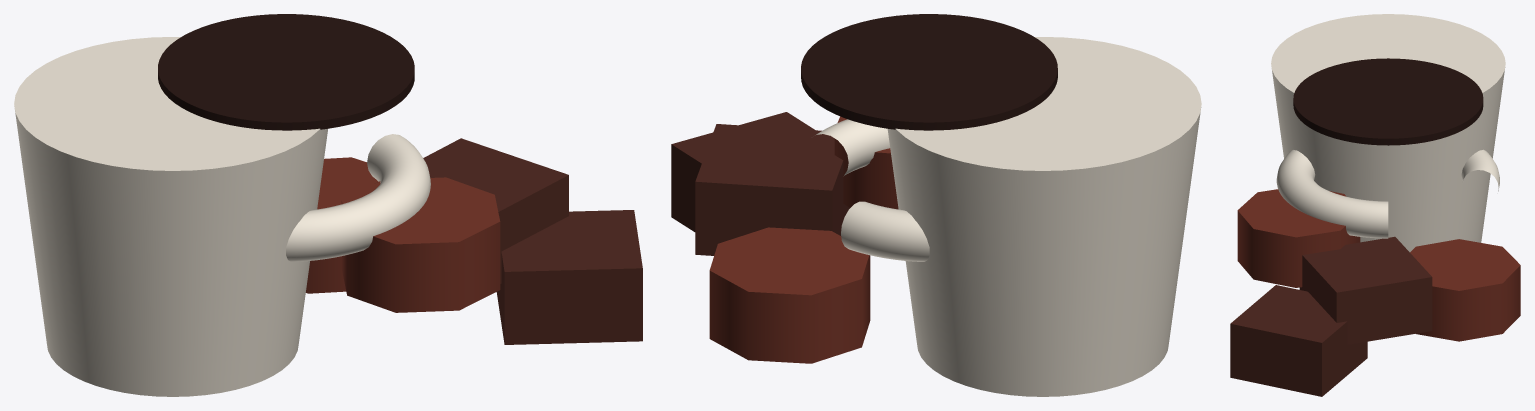
File: chocolate-coffee.glb
3 views of the same model, side by side, from view 1: azimuth 30°, elevation 25°; view 2: azimuth 150°, elevation 25°; view 3: azimuth 270°, elevation 25° (orthographic). The views are drawn at different scales.
Parts seen in each view (by area): view 1: LaBaguette_chocolate-coffee; view 2: LaBaguette_chocolate-coffee; view 3: LaBaguette_chocolate-coffee.
Part boxes in pixels (left/top/right/bottom): LaBaguette_chocolate-coffee: left=14, top=14, right=642, bottom=396; LaBaguette_chocolate-coffee: left=671, top=14, right=1201, bottom=396; LaBaguette_chocolate-coffee: left=1230, top=14, right=1520, bottom=396.
Bounding box in the file's own units: 2.54 × 1.12 × 1.56.
